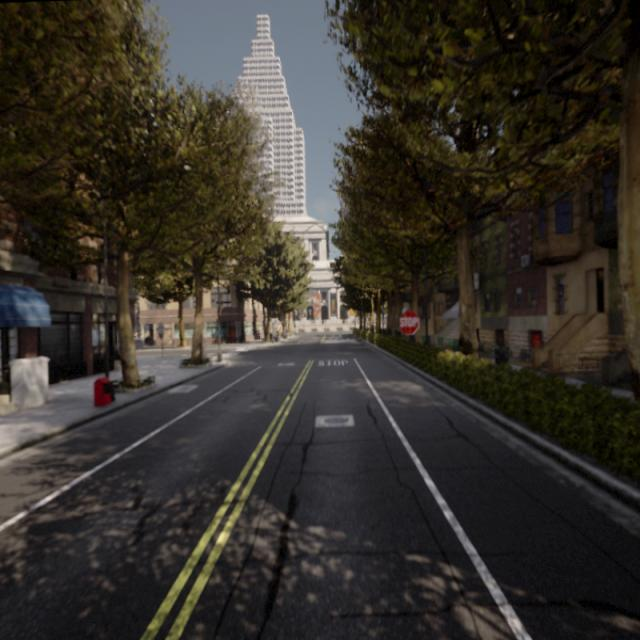stop sign: (396, 305, 422, 338)
